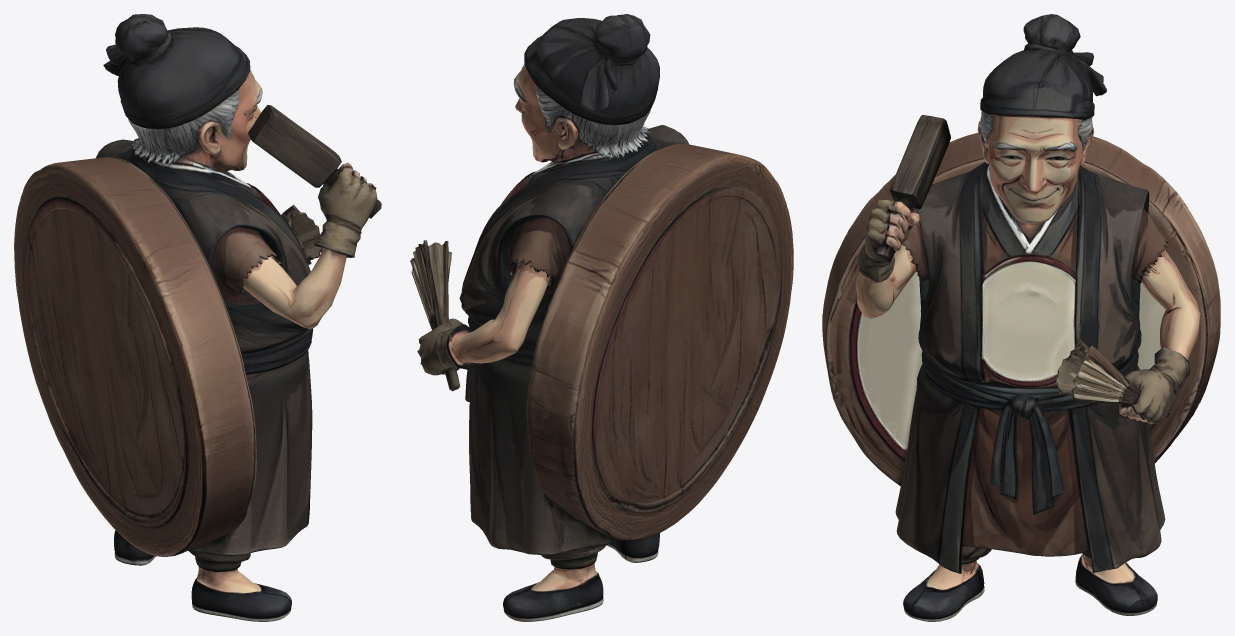
File: p_b1p_fangtingtao.glb
3 views of the same model, side by side, from view 1: azimuth 30°, elevation 25°; view 2: azimuth 150°, elevation 25°; view 3: azimuth 270°, elevation 25° (orthographic). The views are drawn at different scales.
Visible parts, largest first — view 1: tripo_node_a1562ac7-63aa-454d-a12c-e553de6a0dcb; view 2: tripo_node_a1562ac7-63aa-454d-a12c-e553de6a0dcb; view 3: tripo_node_a1562ac7-63aa-454d-a12c-e553de6a0dcb.
Part boxes in pixels (x1,y1,x2,y2): tripo_node_a1562ac7-63aa-454d-a12c-e553de6a0dcb: (14, 14, 381, 621); tripo_node_a1562ac7-63aa-454d-a12c-e553de6a0dcb: (410, 14, 793, 621); tripo_node_a1562ac7-63aa-454d-a12c-e553de6a0dcb: (822, 14, 1220, 621).
Bounding box in the file's own units: 0.4728 × 0.9796 × 0.6255.
Materials: 1 (1 with a texture image).
